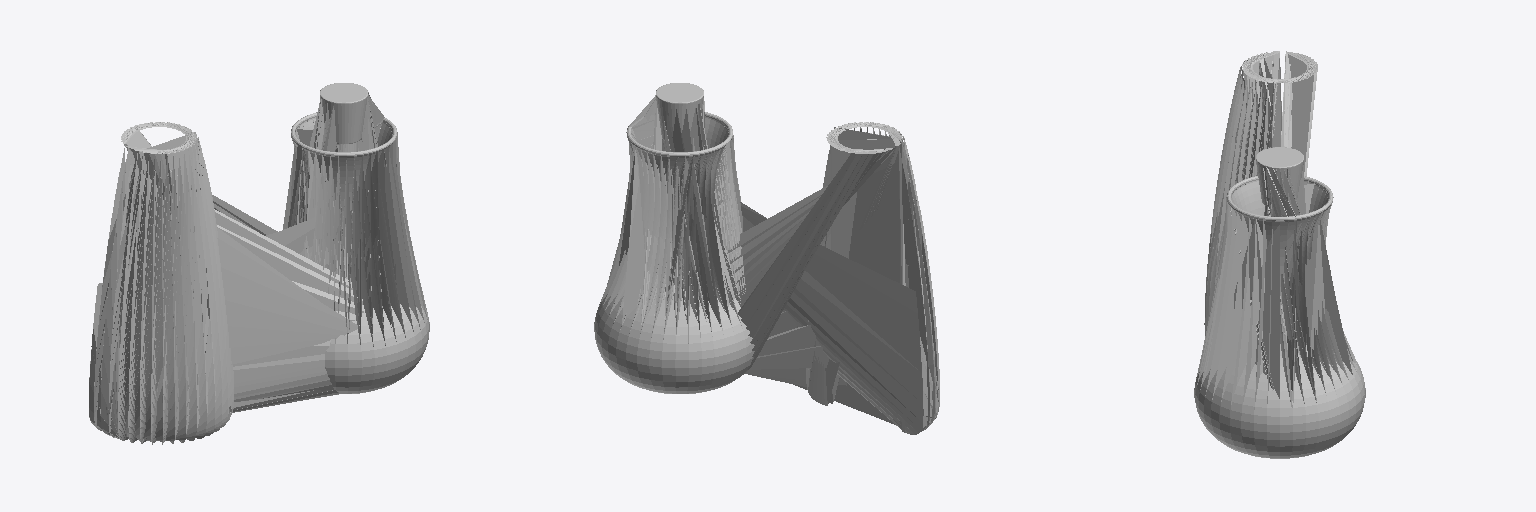
File: mpm_vol.05_p02.OBJ
3 renders of one model, left to right at view 1: azimuth 30°, elevation 25°; view 2: azimuth 150°, elevation 25°; view 3: azimuth 270°, elevation 25°, orthographic.
Visible parts, largest first — view 1: 02_Oil_carafe_big, 02_Oil_carafe_small; view 2: 02_Oil_carafe_big, 02_Oil_carafe_small; view 3: 02_Oil_carafe_big, 02_Oil_carafe_small.
Part boxes in pixels (x1,y1,x2,y2): 02_Oil_carafe_big: (89, 84, 427, 444); 02_Oil_carafe_small: (291, 83, 429, 393); 02_Oil_carafe_big: (599, 88, 939, 434); 02_Oil_carafe_small: (594, 83, 754, 393); 02_Oil_carafe_big: (1196, 51, 1359, 409); 02_Oil_carafe_small: (1194, 147, 1365, 458).
Bounding box in the file's own units: 193 × 161 × 88.31.